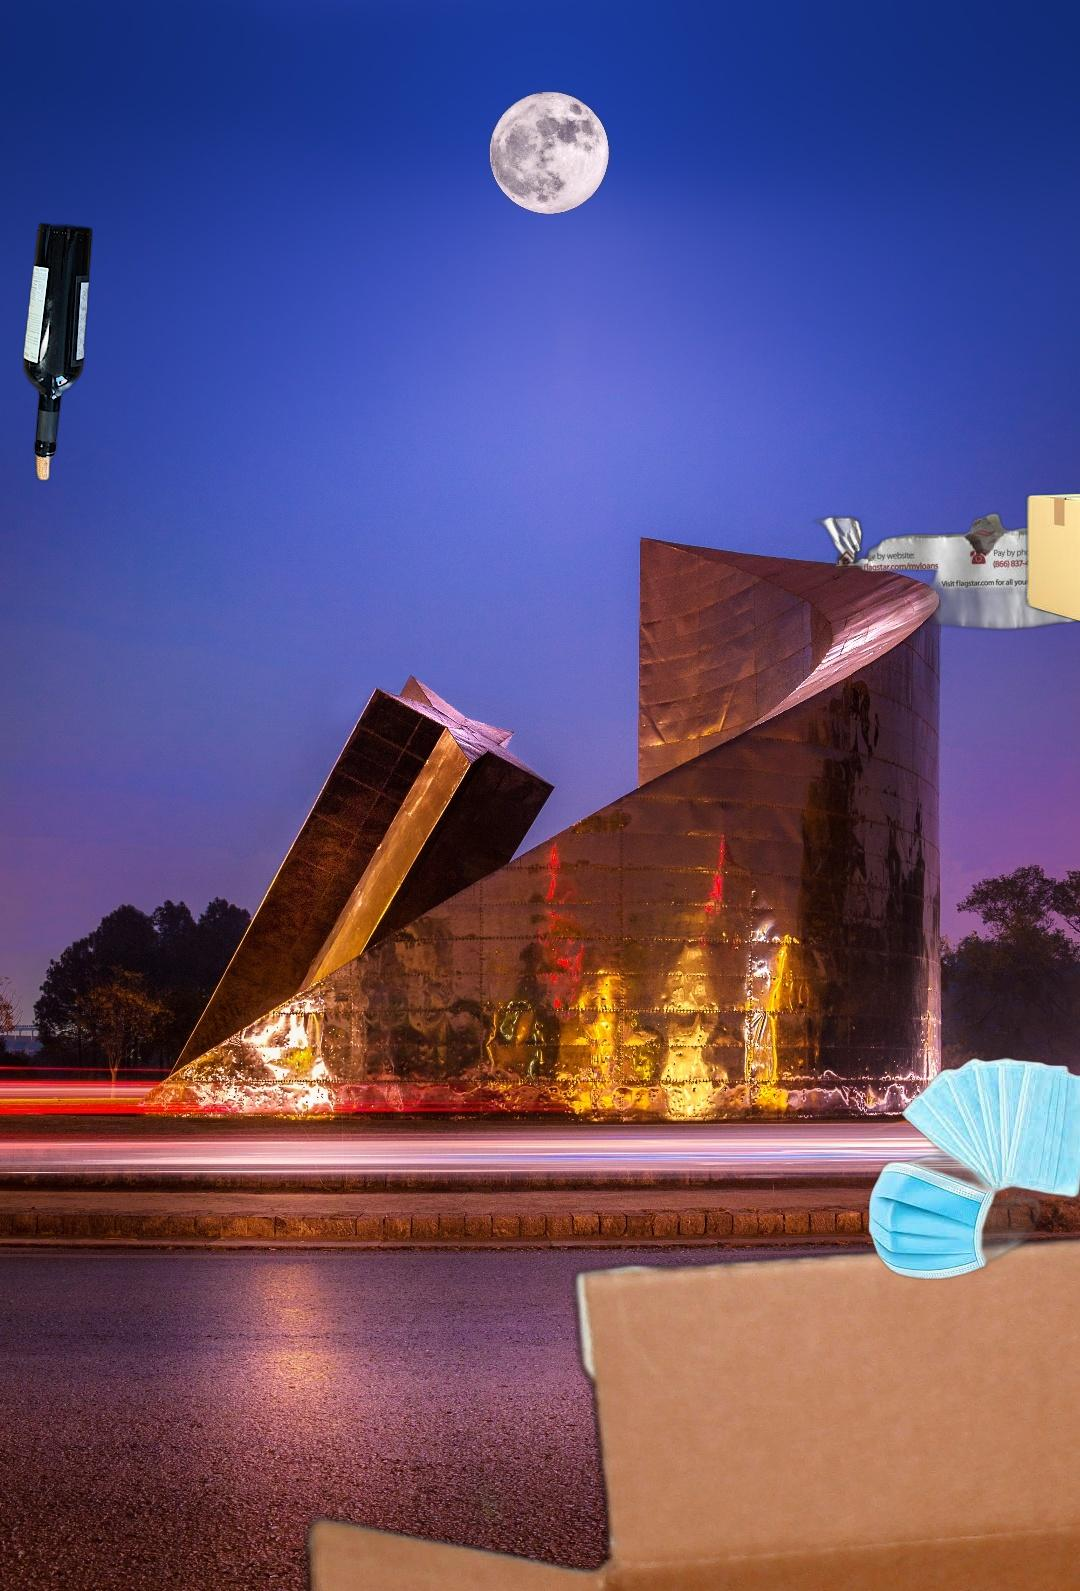glass: (18, 217, 96, 487)
paper: (738, 498, 1080, 633)
trash: (867, 1056, 1080, 1280)
trashbox-cardboard: (277, 1211, 1080, 1591), (1019, 486, 1080, 629)
